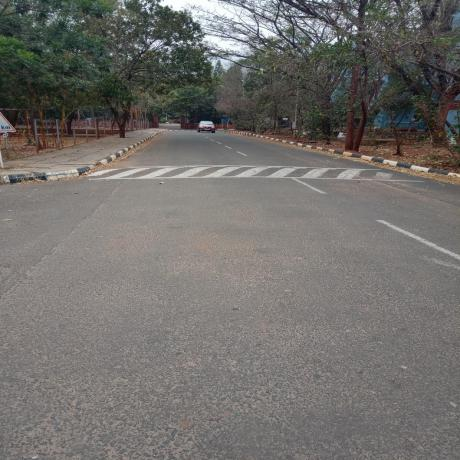Speed Bump: (81, 166, 436, 182)
